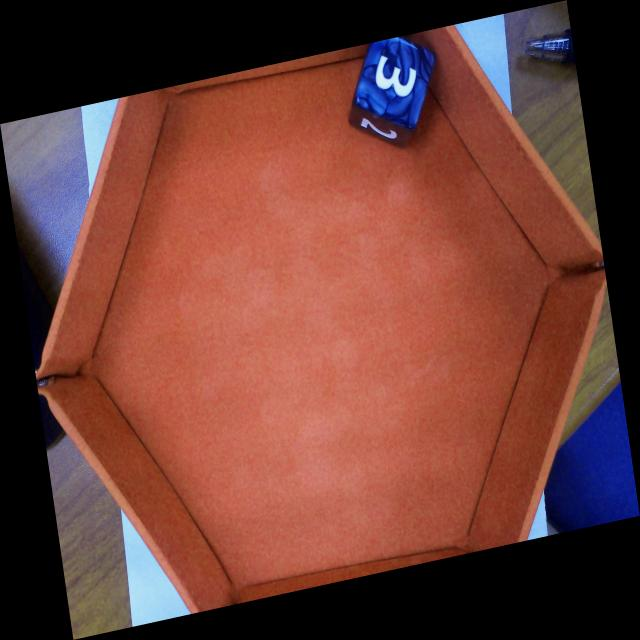dice: (358, 38, 434, 124)
